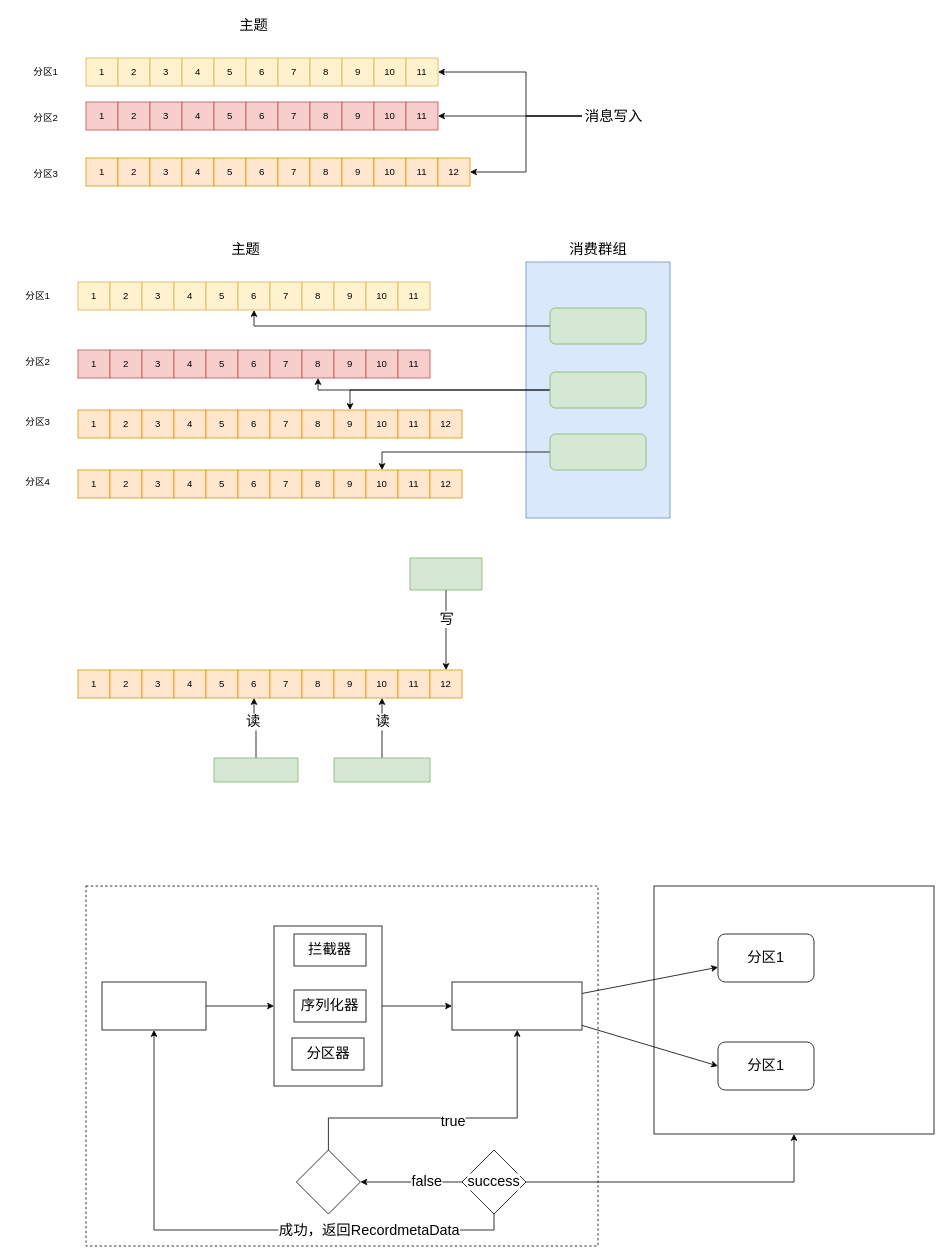
This 948x1260 diagram has some shape labels left out. Each missing label, with the box of its shape:
Consumer A: (213, 757, 298, 782)
Consumer B: (333, 757, 430, 782)
Product: (409, 557, 482, 590)
ProductRecod: (101, 981, 206, 1030)
RecordAccumlator: (451, 981, 582, 1030)
retry: (296, 1149, 360, 1214)
消费者1: (549, 307, 646, 344)
消费者2: (549, 371, 646, 408)
消费者3: (549, 433, 646, 470)
